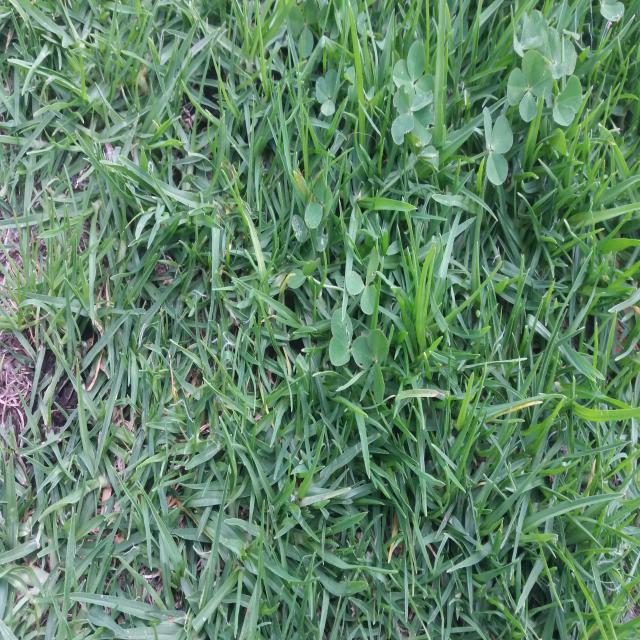Four Leaf Clover: (507, 50, 553, 122), (391, 84, 435, 146)
